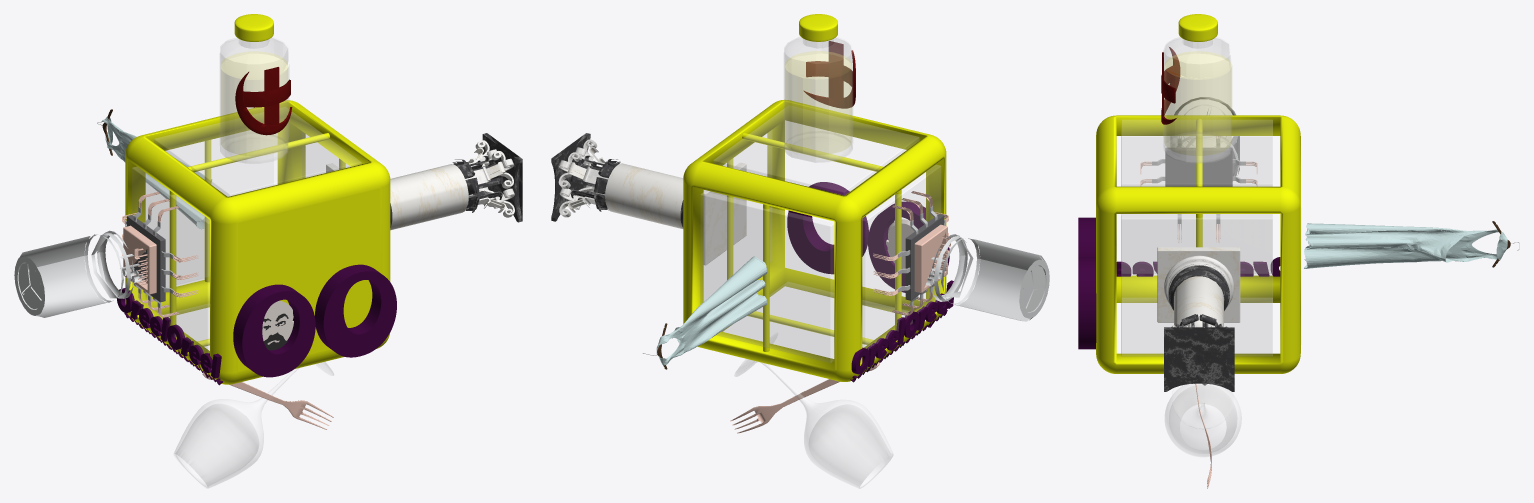
Rendered from HEXplainRBST7.glb.
3 renders of one model, left to right at view 1: azimuth 30°, elevation 25°; view 2: azimuth 150°, elevation 25°; view 3: azimuth 270°, elevation 25°, orthographic.
Visible parts, largest first — view 1: HEX, OO, RMDY, CTHD, cth9, MRKT_bottle, nurbsToPoly1, GRMN, MRKT_bottleLiquid, BDY, OreelOreel, DRESS (+15 smaller); view 2: HEX, GRMN, MRKT_bottle, RMDY, CTHD, cth9, MRKT_bottleLiquid, nurbsToPoly1, GRNT, FDBV, OO, DRESS (+18 smaller); view 3: HEX, GRNT, CTHD, MRKT_bottle, RMDY, DRESS, MRKT_bottleLiquid, nurbsToPoly1, crown, FDBV, pCube43, OO (+8 smaller).
Boxes of the visible parts, left/top/right/bottom form: HEX: left=125, top=100, right=390, bottom=384; OO: left=233, top=264, right=396, bottom=377; RMDY: left=154, top=109, right=361, bottom=196; CTHD: left=132, top=167, right=209, bottom=353; cth9: left=14, top=230, right=139, bottom=317; MRKT_bottle: left=220, top=37, right=289, bottom=163; nurbsToPoly1: left=174, top=362, right=333, bottom=488; GRMN: left=146, top=138, right=273, bottom=286; MRKT_bottleLiquid: left=221, top=52, right=287, bottom=155; BDY: left=390, top=164, right=468, bottom=230; OreelOreel: left=117, top=288, right=221, bottom=378; DRESS: left=101, top=116, right=211, bottom=229; HEX: left=683, top=100, right=946, bottom=381; GRMN: left=700, top=192, right=833, bottom=362; MRKT_bottle: left=784, top=37, right=852, bottom=162; RMDY: left=713, top=109, right=919, bottom=195; CTHD: left=862, top=165, right=940, bottom=349; cth9: left=930, top=234, right=1049, bottom=321; MRKT_bottleLiquid: left=785, top=51, right=851, bottom=154; nurbsToPoly1: left=734, top=359, right=893, bottom=488; GRNT: left=704, top=130, right=771, bottom=300; FDBV: left=722, top=282, right=908, bottom=358; OO: left=787, top=182, right=949, bottom=292; DRESS: left=656, top=256, right=767, bottom=365; HEX: left=1096, top=115, right=1300, bottom=373; GRNT: left=1121, top=215, right=1272, bottom=356; CTHD: left=1121, top=136, right=1272, bottom=273; MRKT_bottle: left=1163, top=37, right=1230, bottom=163; RMDY: left=1121, top=120, right=1272, bottom=186; DRESS: left=1304, top=223, right=1507, bottom=268; MRKT_bottleLiquid: left=1165, top=52, right=1231, bottom=155; nurbsToPoly1: left=1165, top=384, right=1241, bottom=456; crown: left=1164, top=327, right=1234, bottom=391; FDBV: left=1121, top=298, right=1272, bottom=352; pCube43: left=1157, top=247, right=1240, bottom=322; OO: left=1078, top=217, right=1096, bottom=349.
Size of the model in its own units: 14.46 by 13.33 by 11.74.
Materials: 20 (3 with a texture image).
